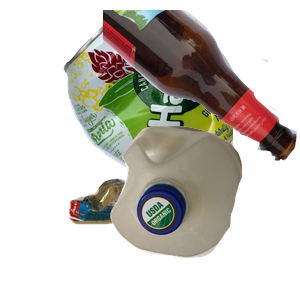glass: (103, 10, 300, 163)
metal: (60, 18, 300, 198)
plastic: (108, 123, 300, 300)
trash: (66, 173, 272, 300)
